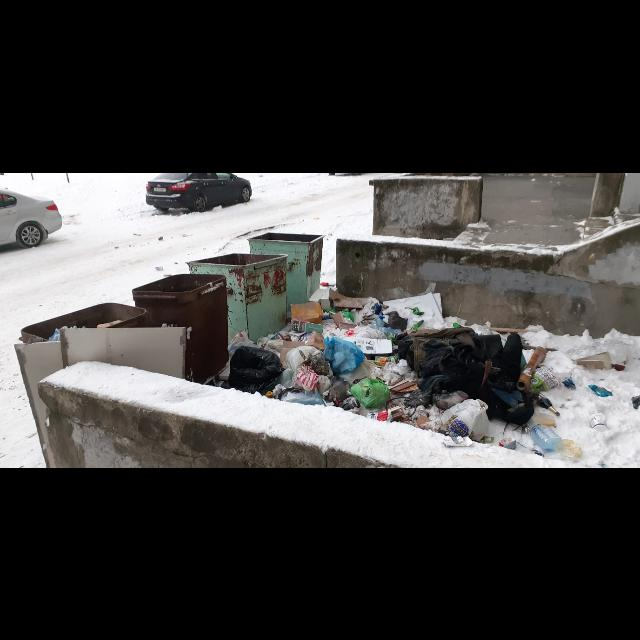Trash_Can_Empty: (132, 272, 231, 384), (187, 252, 288, 342), (247, 230, 326, 304)
